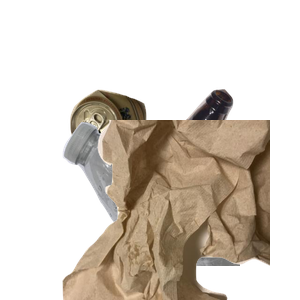glass: (130, 87, 300, 267)
metal: (67, 87, 206, 234)
plastic: (60, 120, 300, 300)
trash: (60, 120, 300, 300)
